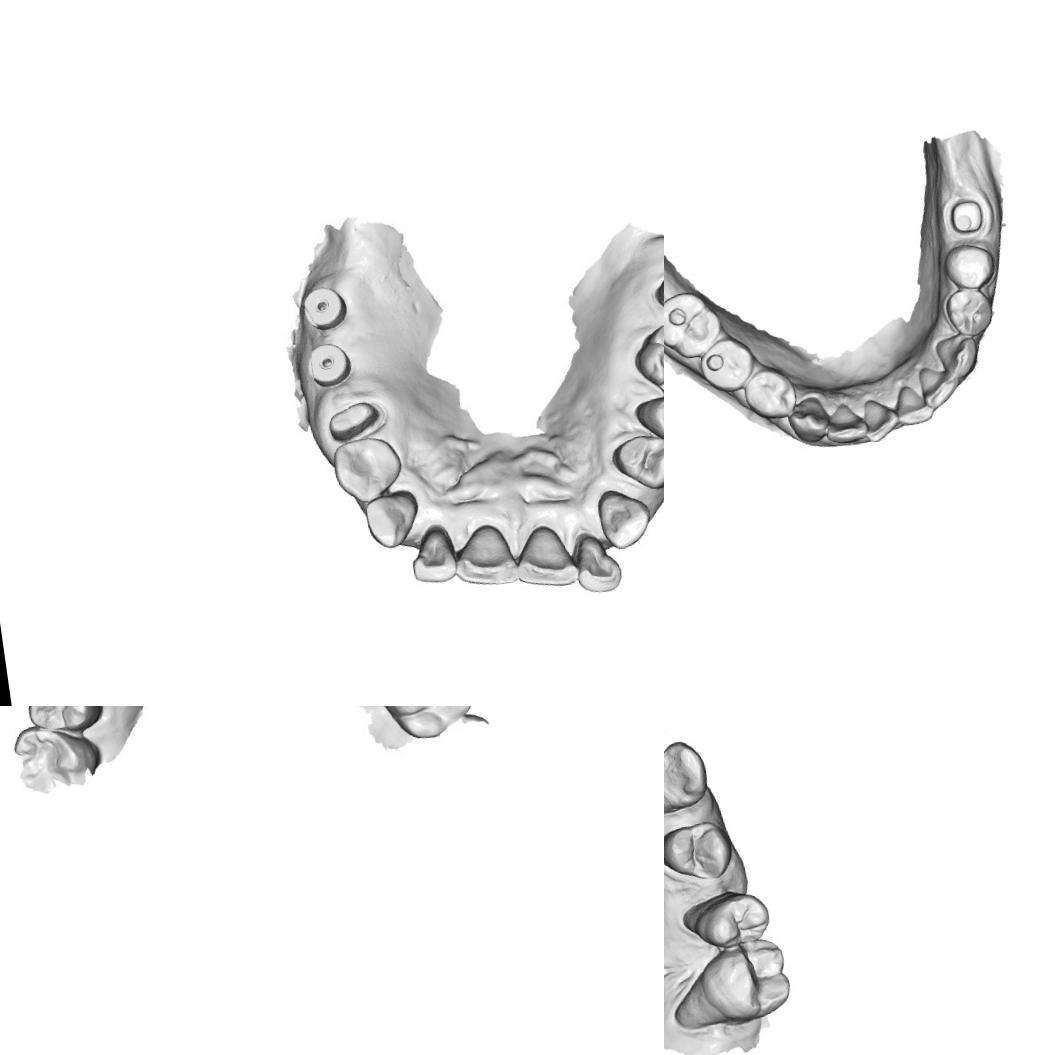abutment: (946, 196, 986, 236)
canine: (363, 486, 426, 555), (593, 485, 654, 551), (664, 736, 713, 818), (930, 331, 982, 381), (784, 393, 832, 446)
crown: (322, 393, 387, 444)
implant: (300, 280, 352, 336), (304, 339, 352, 388)
incisor: (507, 524, 576, 592), (450, 526, 516, 594), (568, 529, 623, 598), (405, 522, 457, 590), (917, 362, 963, 412), (822, 399, 870, 446), (859, 394, 902, 444), (890, 382, 936, 428)
molar: (694, 934, 796, 1028), (664, 287, 726, 363), (376, 706, 477, 745), (630, 311, 664, 410)
premolar: (324, 432, 408, 512), (688, 887, 774, 955), (664, 815, 737, 887), (696, 334, 759, 396), (610, 425, 664, 496), (740, 364, 800, 423), (942, 284, 996, 340), (940, 240, 998, 292), (24, 706, 104, 740), (634, 388, 664, 456)
